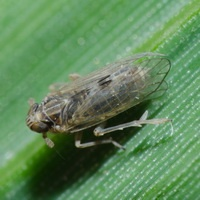insect: (26, 52, 170, 146)
